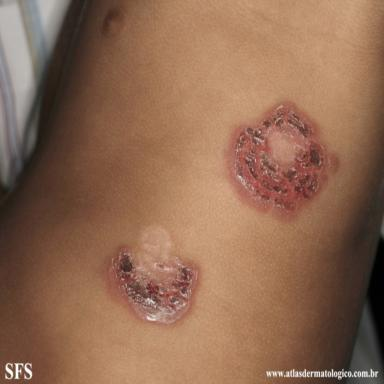Impetigo: (225, 100, 340, 222), (103, 224, 200, 327)
